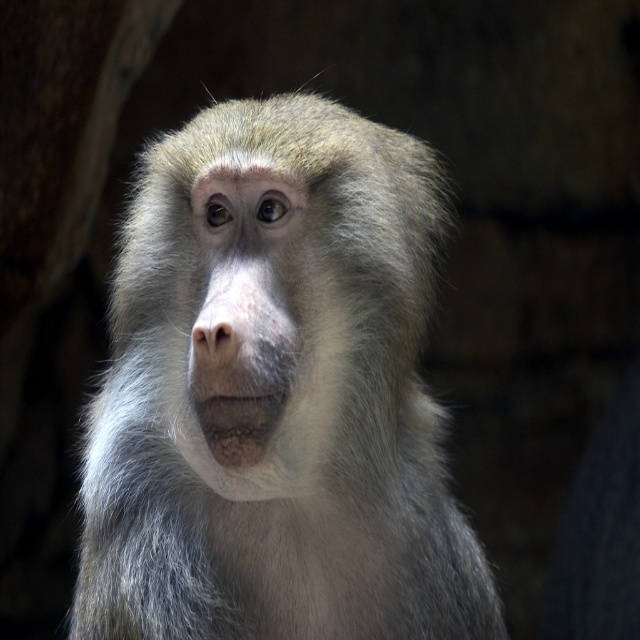Monkey: (54, 63, 510, 640)
